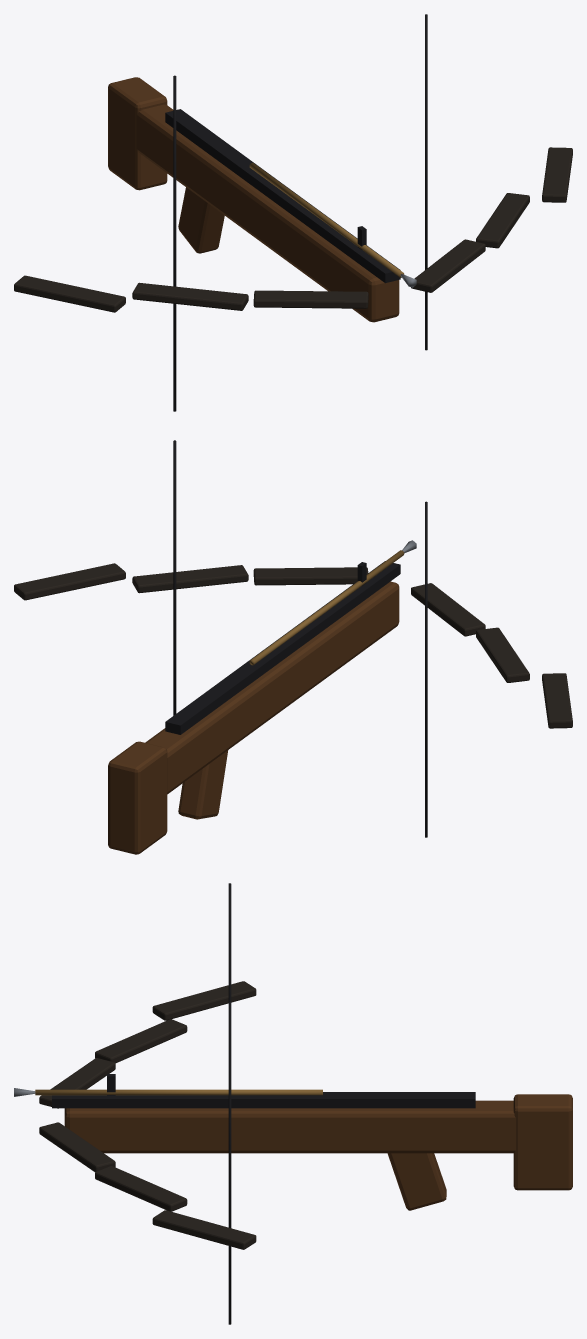
Rendered from crossbow.glb.
3 views of the same model, one above another, from view 1: azimuth 30°, elevation 25°; view 2: azimuth 150°, elevation 25°; view 3: azimuth 270°, elevation 25° (orthographic). The views are drawn at different scales.
Visible parts, largest first — view 1: crossbow; view 2: crossbow; view 3: crossbow.
Boxes of the visible parts, bbox=[...] form: crossbow: bbox=[14, 14, 572, 411]; crossbow: bbox=[14, 440, 572, 854]; crossbow: bbox=[14, 883, 572, 1324].
Bounding box in the file's own units: 0.7331 × 0.42 × 0.66.
